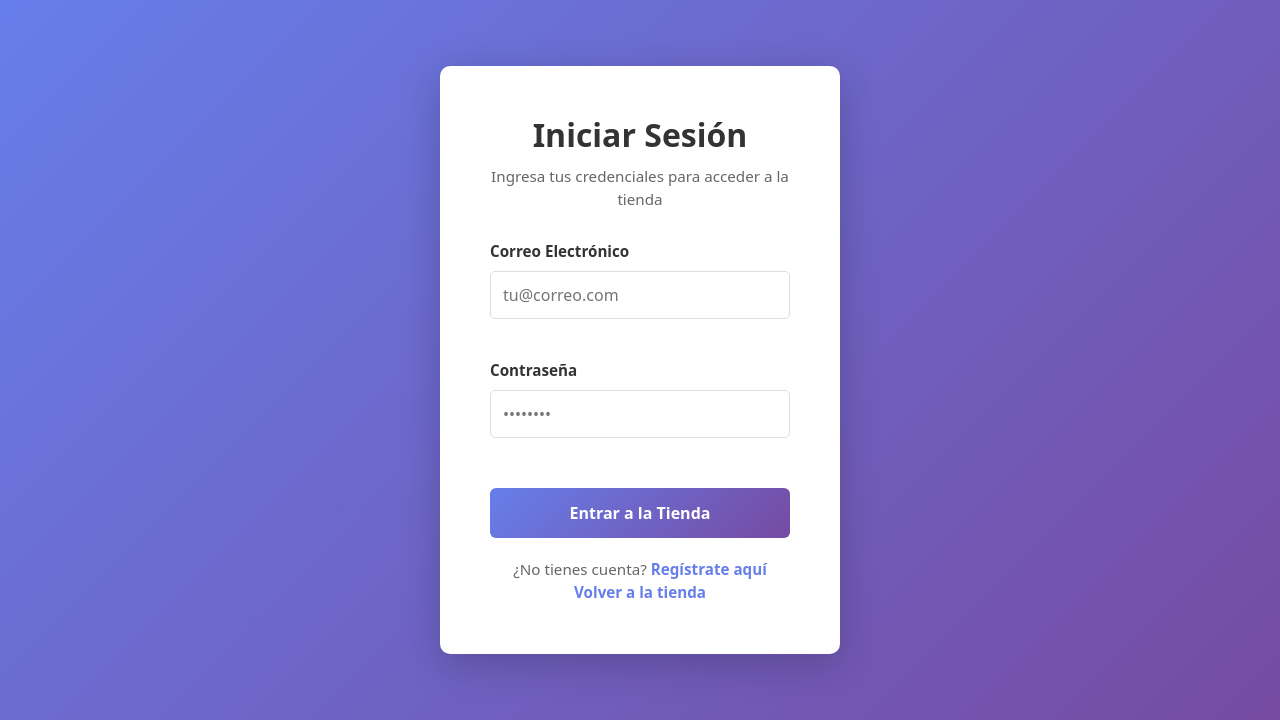
Test: Login Page › Manejo de errores › debe mostrar mensaje de error cuando el login falla
The width and height of the screenshot is (1280, 720).
Type "malo@test.com" into the field labelled "Correo Electrónico".
click(640, 295); type("malo@test.com")  # box 490,271 -> 790,319
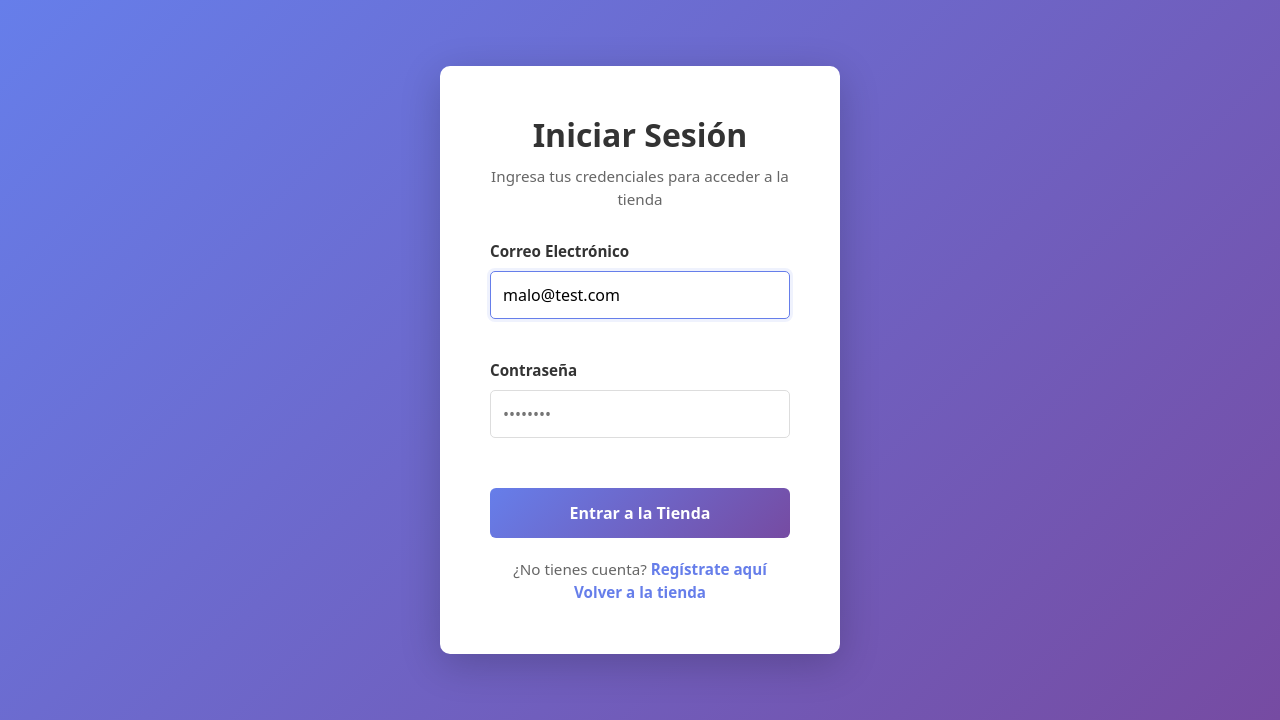
Type "wrongpass" into the password field labelled "Contraseña".
click(640, 414); type("wrongpass")  # box 490,390 -> 790,438
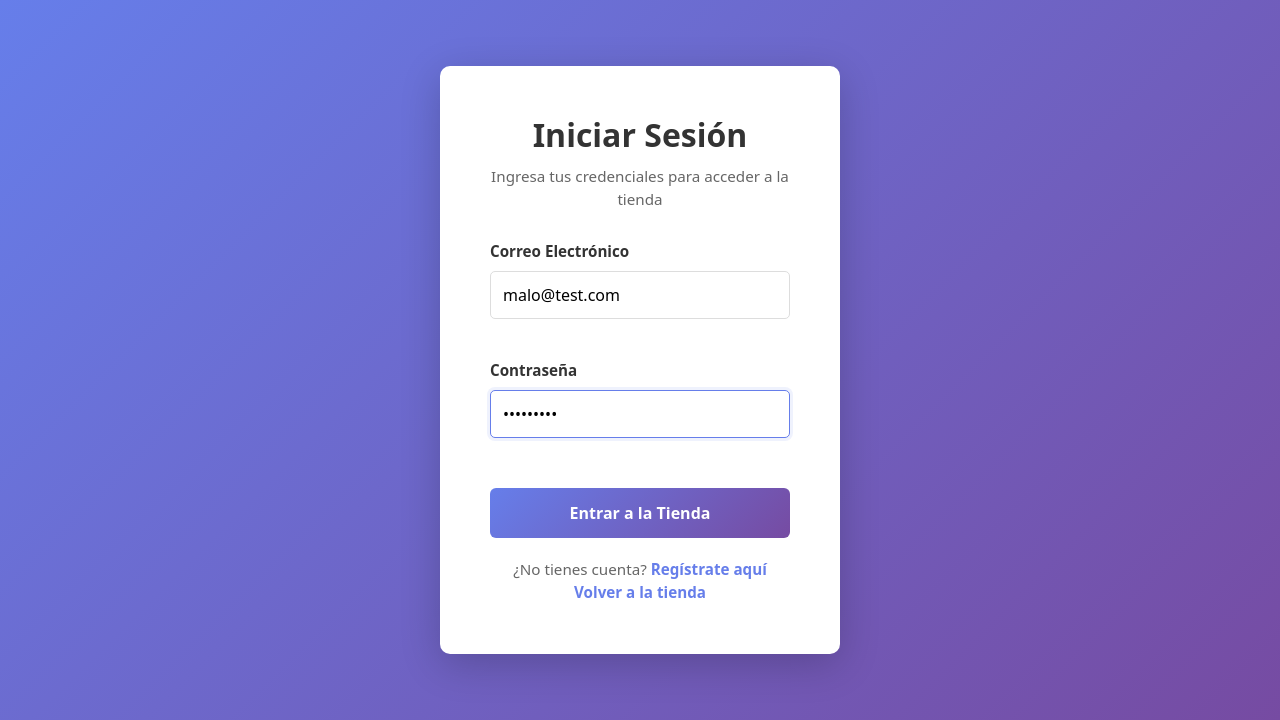
Click the button "Entrar a la Tienda".
click(640, 513)  # box 490,488 -> 790,538
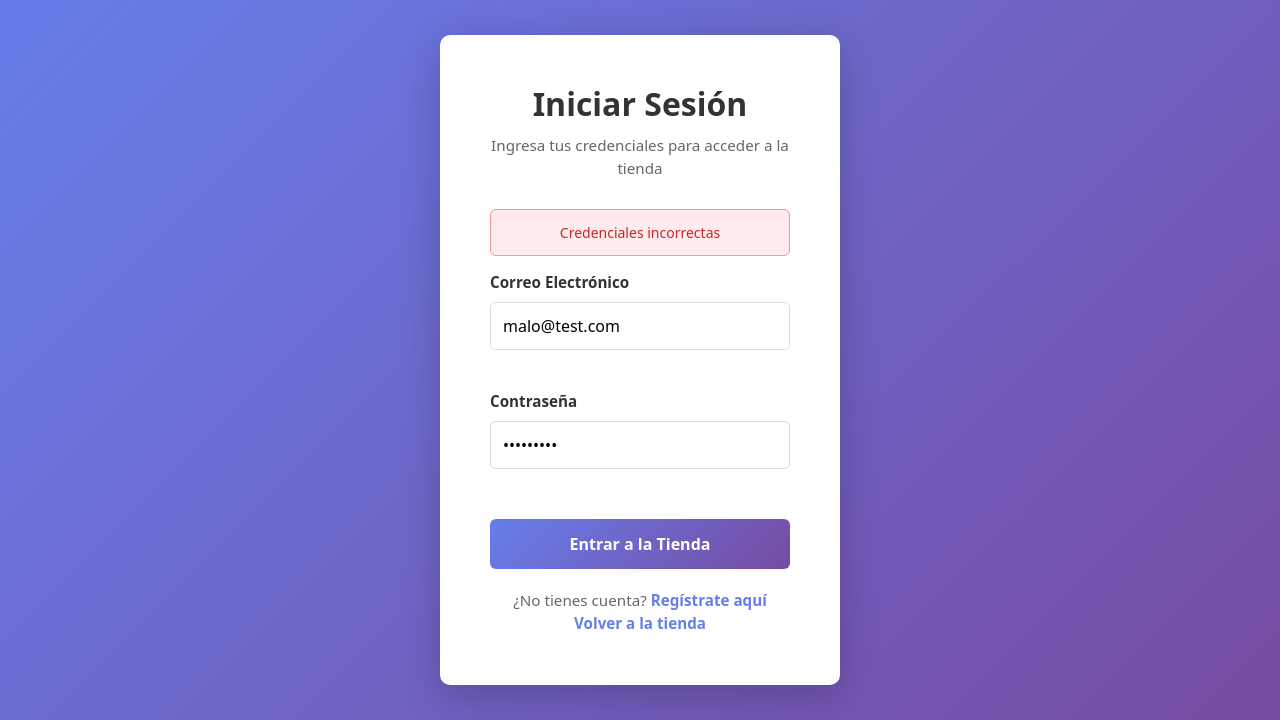
expect the text "Credenciales incorrectas" is shown: met, box 490,209 -> 790,256
